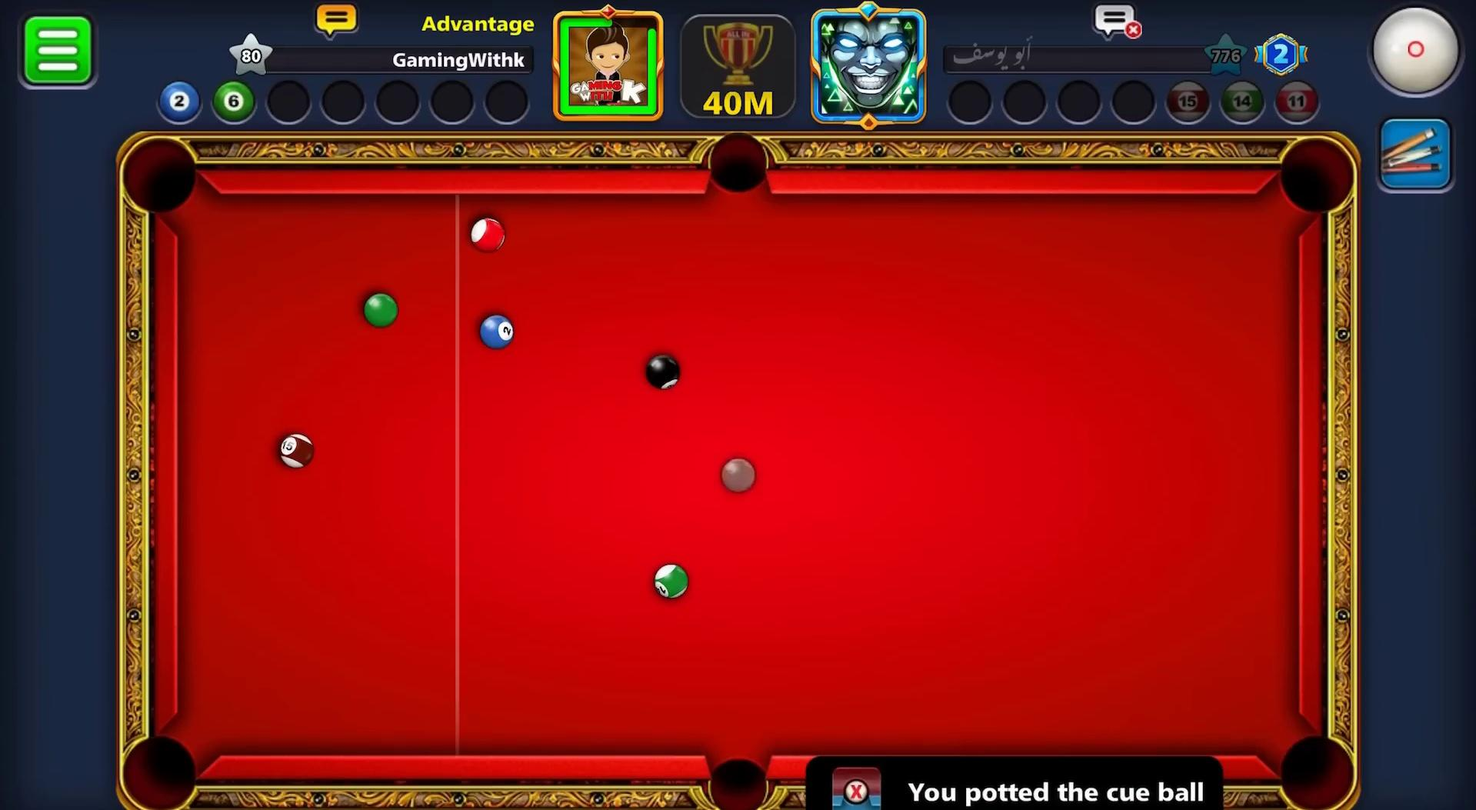Ball: (356, 276, 405, 334), (462, 208, 512, 262), (472, 305, 521, 355), (638, 348, 687, 392), (272, 428, 316, 474), (648, 560, 692, 601)
Hole: (106, 126, 218, 238), (685, 125, 788, 212), (1275, 135, 1358, 217), (1274, 732, 1358, 808), (122, 733, 198, 808), (705, 755, 770, 809)
Play_Area: (177, 192, 1297, 760)
Spin: (1364, 1, 1474, 107)
White: (716, 452, 758, 497)
